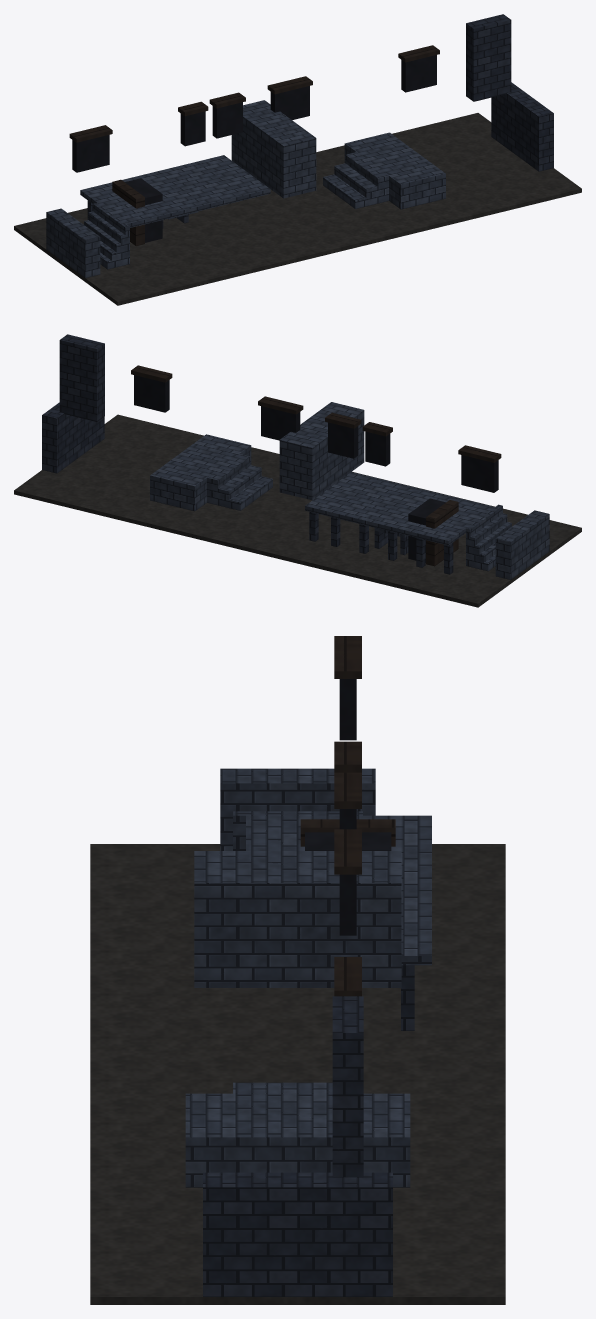
Rendered from outside.glb.
The picture shows the model from 3 angles, top to bottom: view 1: azimuth 30°, elevation 25°; view 2: azimuth 150°, elevation 25°; view 3: azimuth 270°, elevation 25°; orthographic projection. The views are drawn at different scales.
Visible parts, largest first — view 1: outside_earth, outside_stone, outside_stone_dark, outside_void, outside_wood_dark; view 2: outside_earth, outside_stone, outside_stone_dark, outside_void, outside_wood_dark; view 3: outside_earth, outside_stone, outside_stone_dark, outside_wood_dark, outside_void.
Part boxes in pixels (x1,y1,x2,y2): outside_earth: (14,113,581,305); outside_stone: (46,100,445,277); outside_stone_dark: (87,14,553,228); outside_void: (72,55,436,242); outside_wood_dark: (69,45,439,245); outside_earth: (14,414,581,607); outside_stone: (150,402,549,579); outside_stone_dark: (42,334,453,574); outside_void: (134,375,498,562); outside_wood_dark: (131,365,501,566); outside_earth: (90,844,505,1304); outside_stone: (185,768,431,1187); outside_stone_dark: (203,965,414,1296); outside_wood_dark: (300,636,395,996); outside_void: (305,679,391,935).
Size of the model in its own units: 12.4 by 3.34 by 4.8.
Materials: 5 (5 with a texture image).
